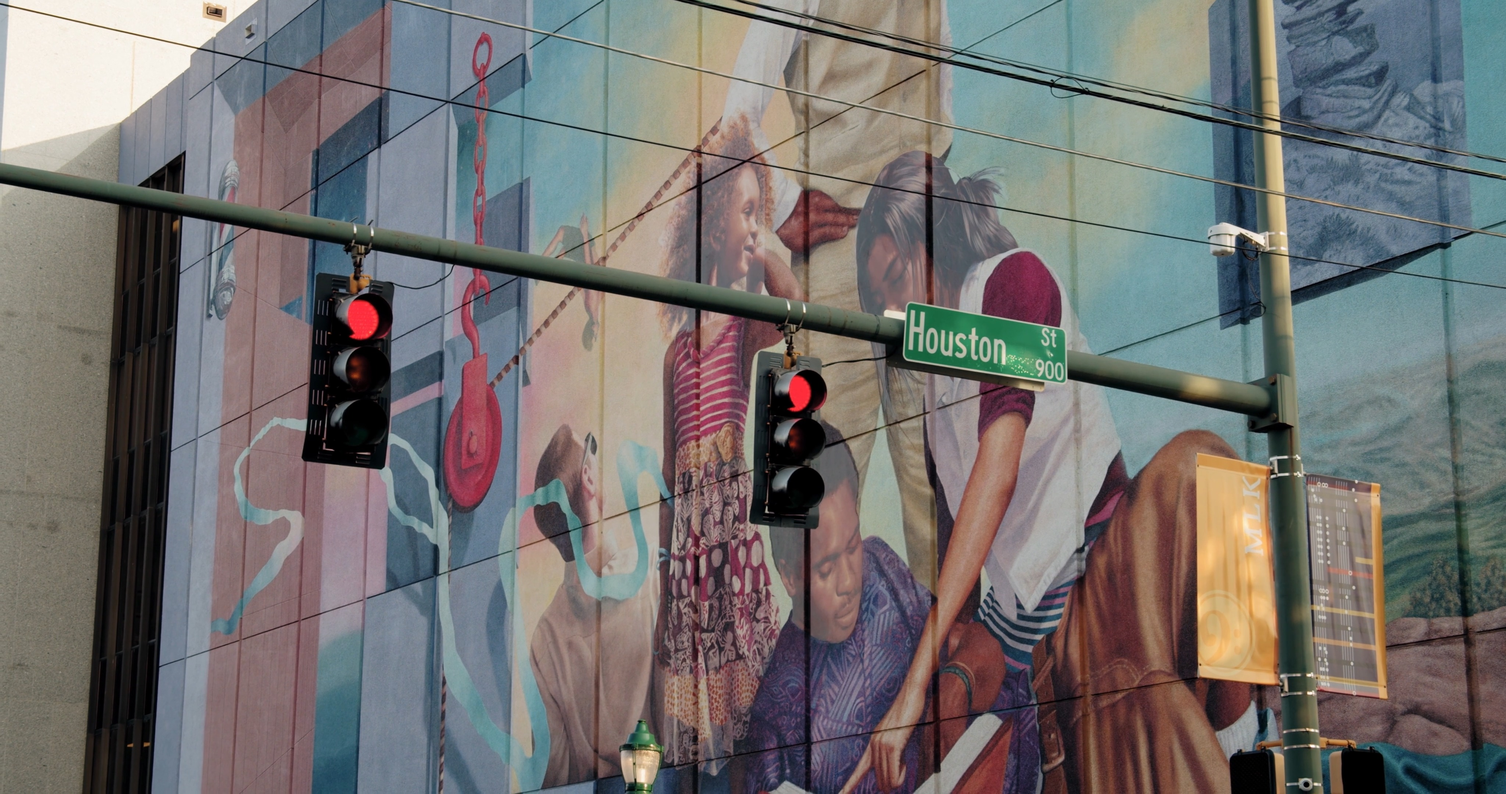red traffic light: (295, 269, 392, 466), (743, 337, 826, 507)
